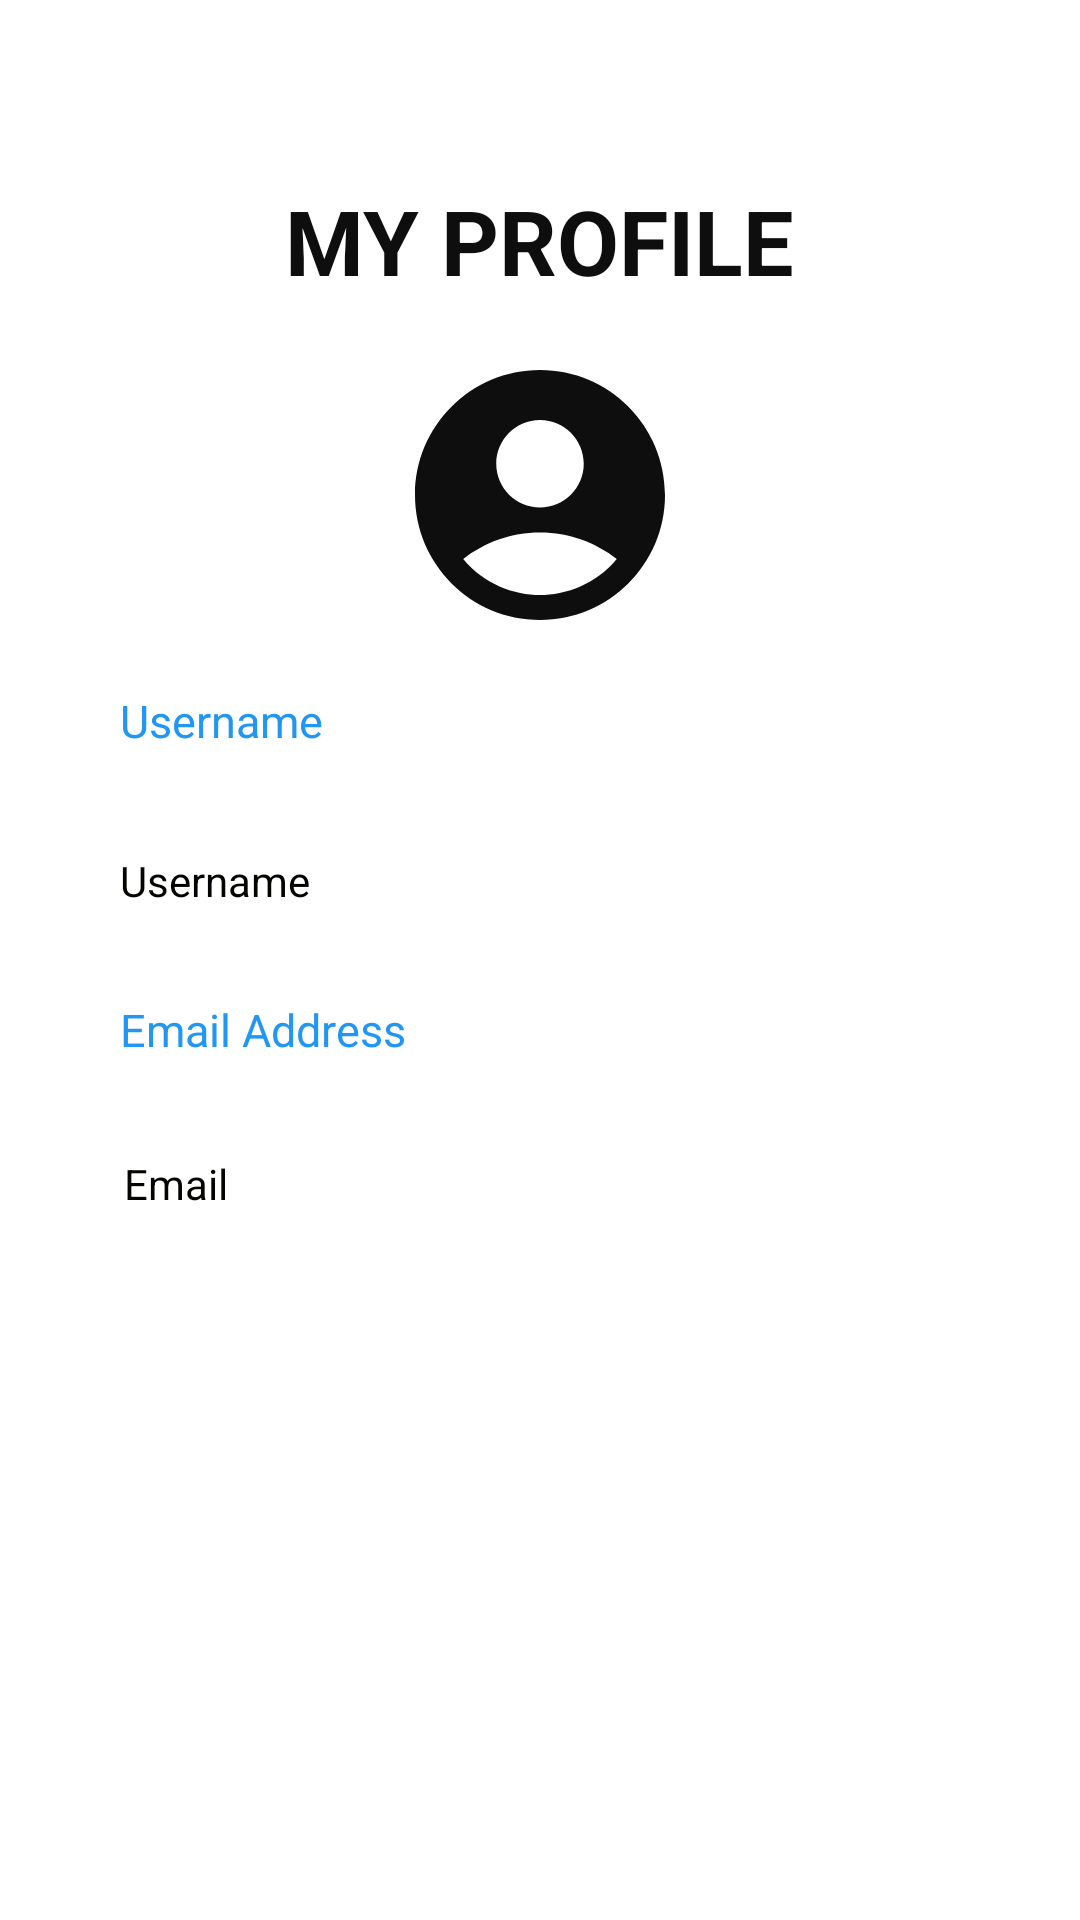

Where icons sit on this 1080*1920 app screen, as (x1, y1, x2, y2):
account circle: (415, 370, 665, 620)
